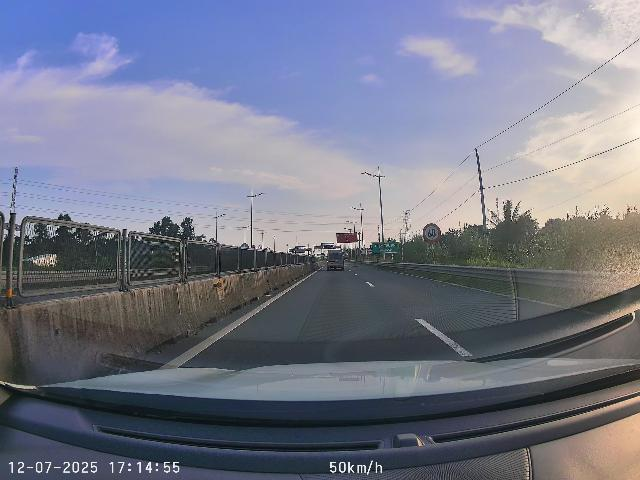127-toc-do-toi-da-60: (422, 223, 441, 243)
